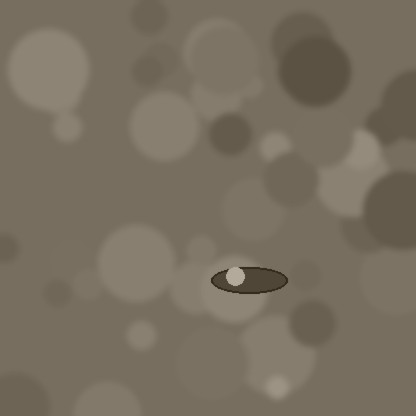gota: (211, 268, 287, 296)
